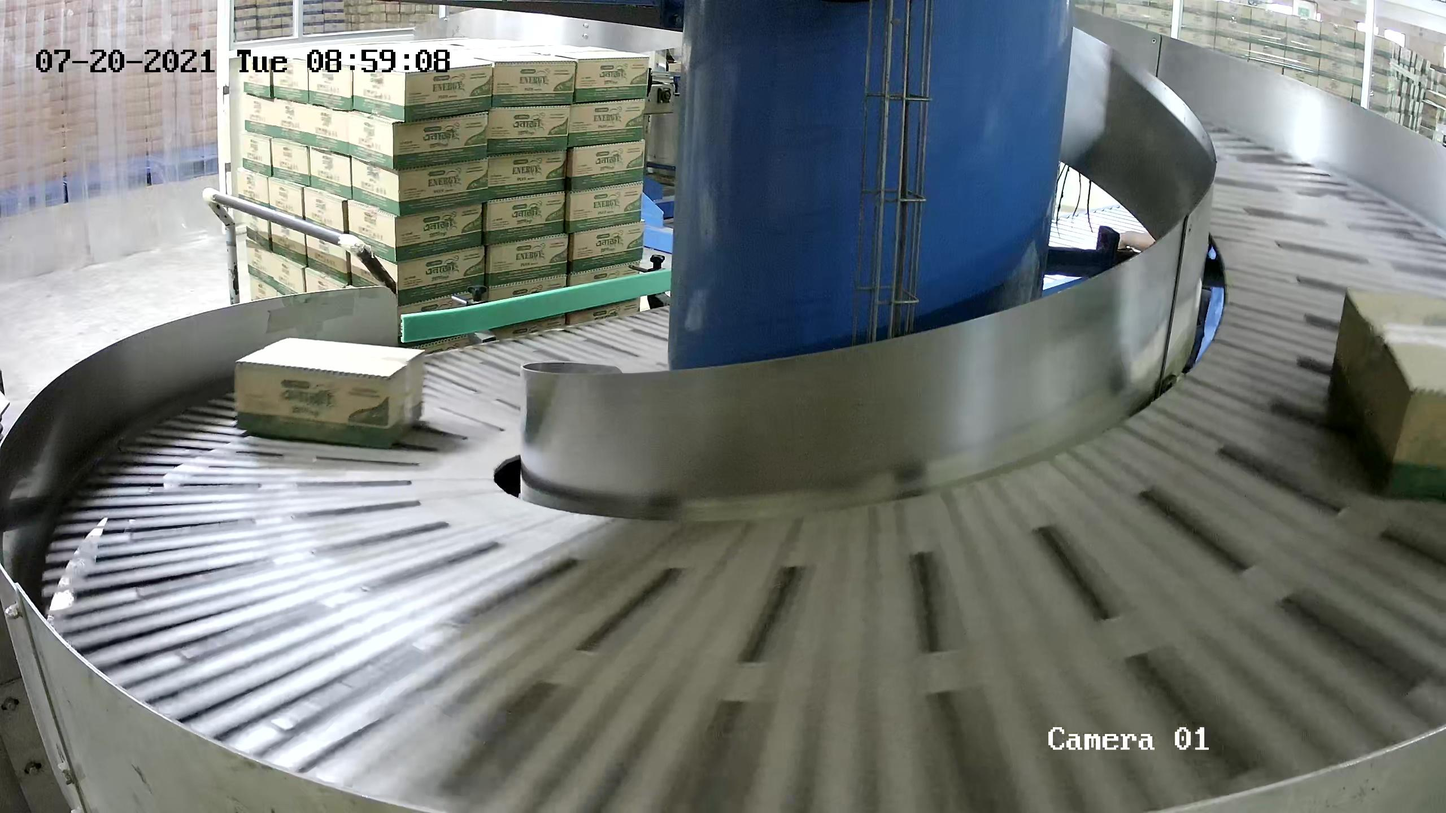Box: (1328, 285, 1446, 499), (234, 336, 426, 449)
